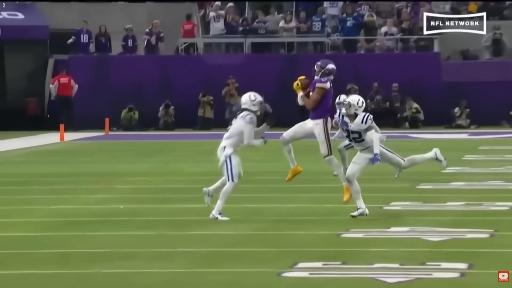Helmet: (241, 92, 263, 114), (342, 95, 365, 114), (314, 60, 336, 79), (335, 95, 347, 108)
Jersey: (221, 111, 257, 149), (340, 113, 374, 150), (310, 79, 332, 119)
Player: (340, 95, 446, 217), (281, 60, 349, 192), (203, 92, 267, 220), (332, 95, 347, 139)
